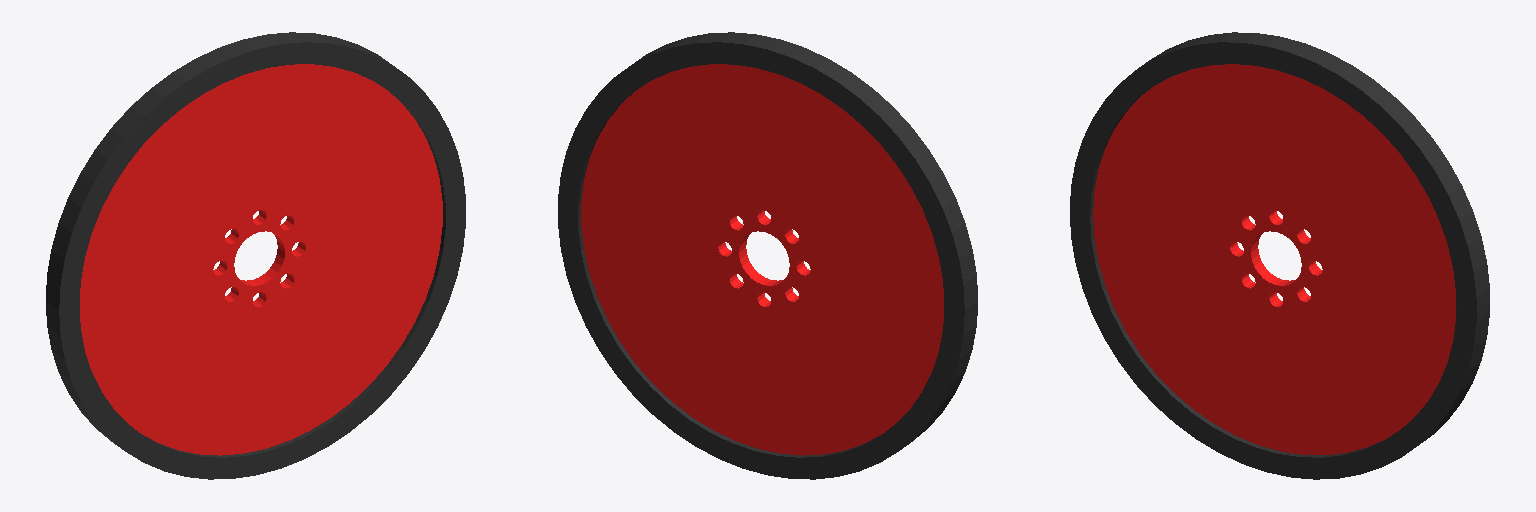
Rendered from ROB-12241.obj.
3 views of the same model, side by side, from view 1: azimuth 30°, elevation 25°; view 2: azimuth 150°, elevation 25°; view 3: azimuth 330°, elevation 25° (orthographic).
Visible parts, largest first — view 1: mesh 2 Boss-Extrude1, mesh 1 RO; view 2: mesh 2 Boss-Extrude1, mesh 1 RO; view 3: mesh 2 Boss-Extrude1, mesh 1 RO.
Boxes of the visible parts, box(x1,y1,x2,y2) form: mesh 2 Boss-Extrude1: box(80, 64, 442, 455); mesh 1 RO: box(46, 32, 465, 479); mesh 2 Boss-Extrude1: box(581, 64, 943, 455); mesh 1 RO: box(558, 32, 977, 479); mesh 2 Boss-Extrude1: box(1093, 64, 1456, 454); mesh 1 RO: box(1070, 32, 1489, 479).
Bounding box in the file's own units: 0.1016 × 0.1016 × 0.0058.